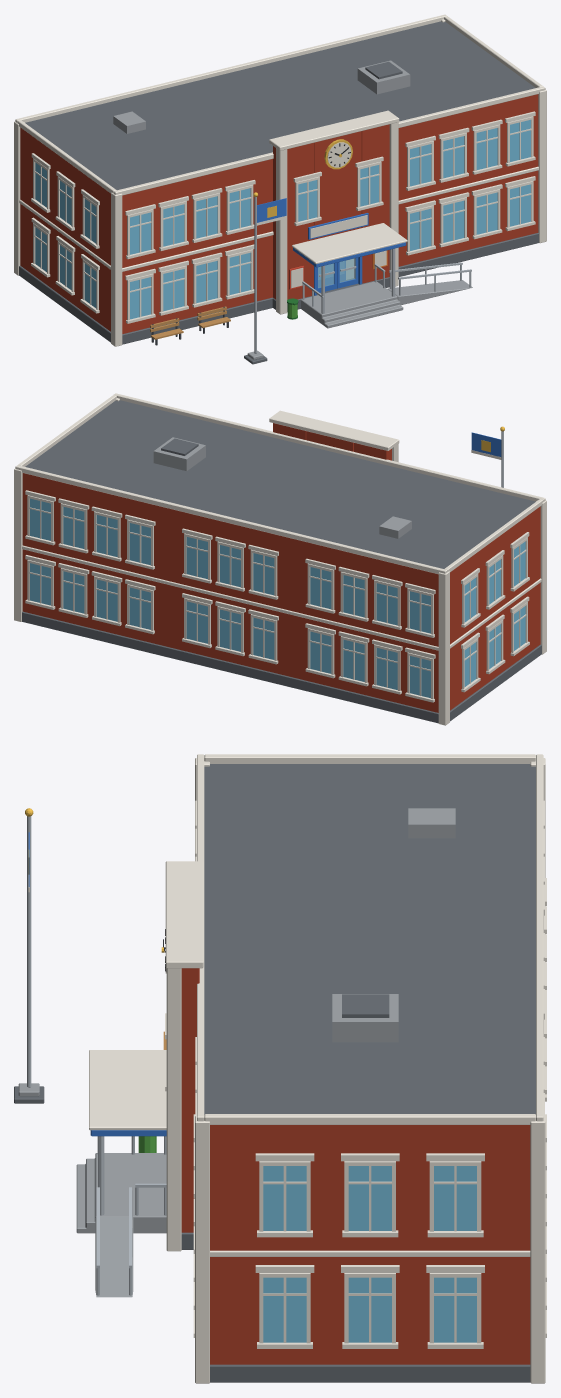
Rendered from red-brick-school.glb.
3 views of the same model, one above another, from view 1: azimuth 30°, elevation 25°; view 2: azimuth 150°, elevation 25°; view 3: azimuth 270°, elevation 25° (orthographic). The views are drawn at different scales.
Parts seen in each view (by area): view 1: School_Body, School_Details, Flagpole, Flag, Door_R, Bench_1, Bench_2, Door_L; view 2: School_Body, School_Details, Flag; view 3: School_Body, School_Details, Flagpole.
Part boxes in pixels (x1,y1,x2,y2): School_Body: [14, 14, 546, 346]; School_Details: [31, 60, 535, 323]; Flagpole: [244, 192, 267, 364]; Flag: [257, 198, 286, 225]; Door_R: [337, 257, 358, 288]; Bench_1: [150, 318, 183, 345]; Bench_2: [197, 306, 230, 333]; Door_L: [317, 262, 336, 292]; School_Body: [14, 393, 546, 725]; School_Details: [25, 437, 529, 702]; Flag: [471, 432, 501, 459]; School_Body: [76, 754, 545, 1383]; School_Details: [96, 800, 546, 1348]; Flagpole: [14, 808, 44, 1103].
Size of the model in its own units: 91.3 by 33.8 by 56.25.
